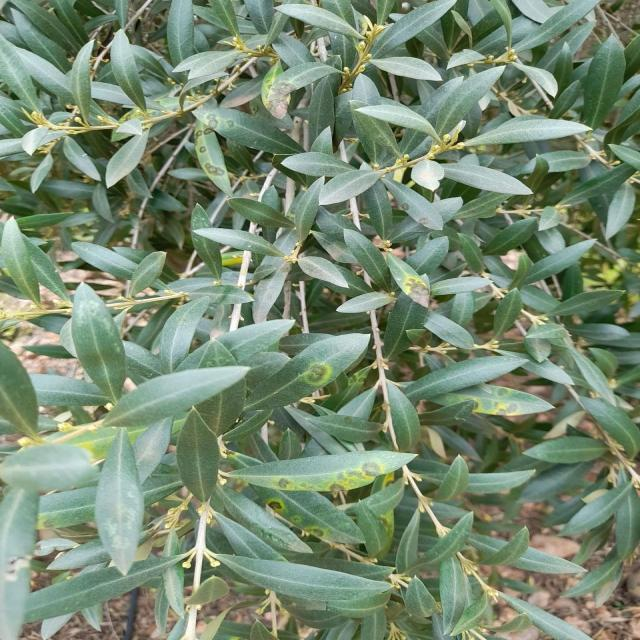OlivePeacockSpot: (244, 334, 368, 412), (226, 450, 416, 491), (252, 486, 366, 544), (192, 108, 303, 156), (432, 384, 554, 416), (382, 179, 447, 229), (268, 64, 340, 102), (195, 124, 232, 195), (386, 252, 430, 302)
